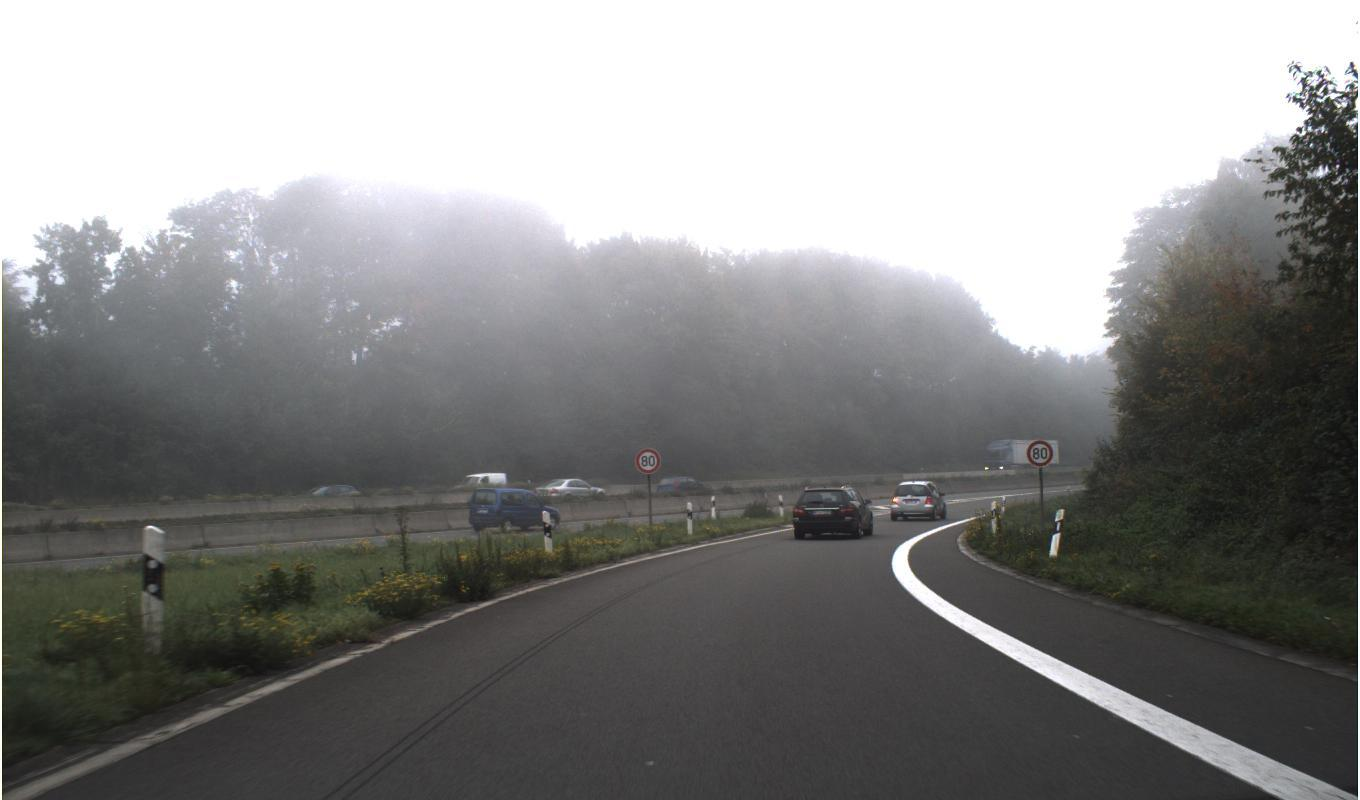speed limit 80 prohibitory: (1025, 438, 1054, 468), (634, 447, 660, 474)
